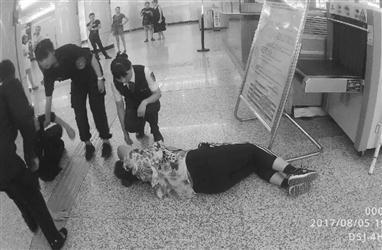fall: (106, 130, 319, 203)
